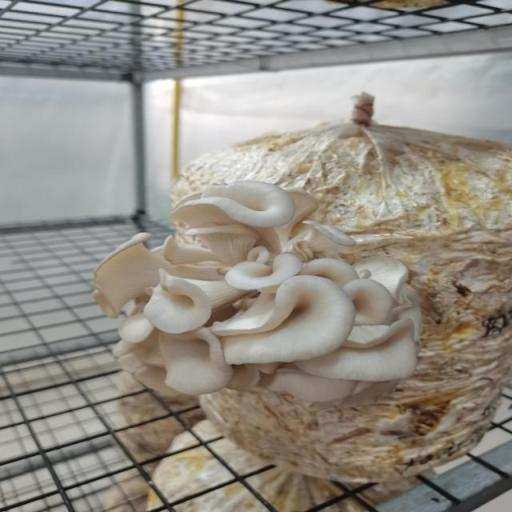White Oyster Mushroom: (82, 178, 426, 418)
